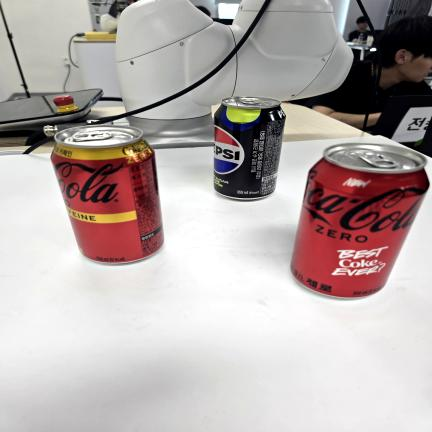can_coke_decaf: (48, 124, 168, 264)
can_coke_zero: (289, 142, 432, 299)
can_pepsi_zero: (212, 97, 287, 200)
